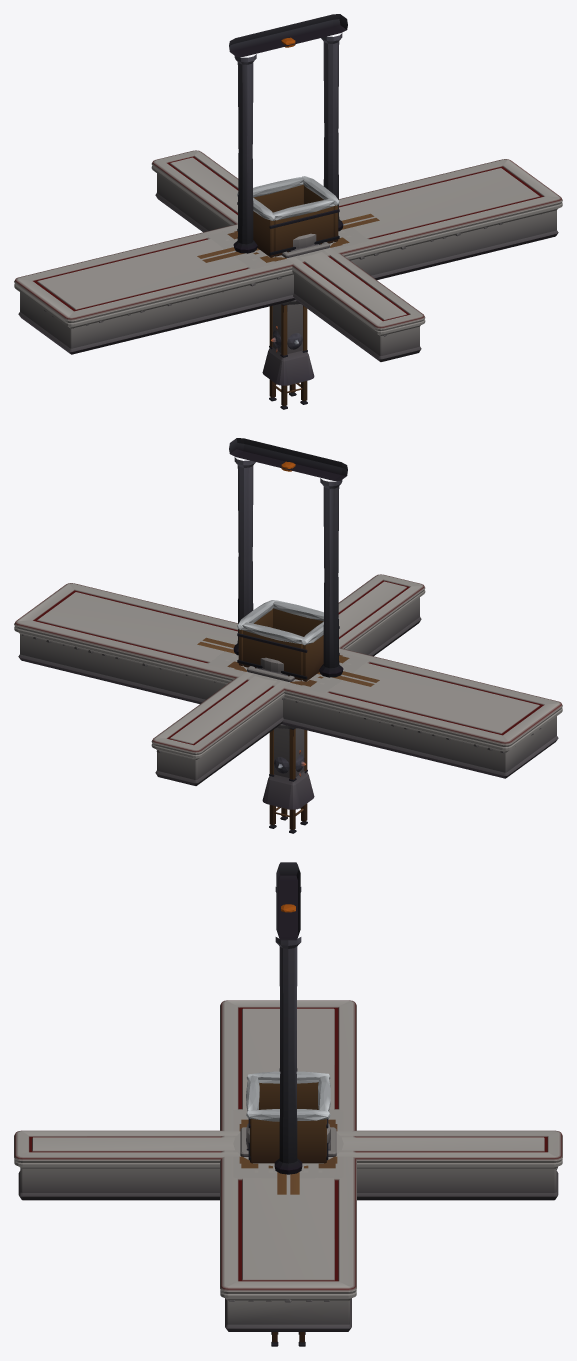
File: fortress-7-Cop983VW.glb
3 renders of one model, top to bottom at view 1: azimuth 30°, elevation 25°; view 2: azimuth 150°, elevation 25°; view 3: azimuth 270°, elevation 25°, orthographic. The views are drawn at different scales.
Parts seen in each view (by area): view 1: block_40x2x8#0, block_4x2x32_grate#0, pressFrame_5x6x2x7#0, hopper_4x3#0, support_1_square#0, truss_12#0, block_10x2x7#0, beam_14x1.5x1.5#0; view 2: block_40x2x8#0, block_4x2x32_grate#0, pressFrame_5x6x2x7#0, hopper_4x3#0, support_1_square#0, truss_12#0, block_10x2x7#0, beam_14x1.5x1.5#0; view 3: block_40x2x8#0, block_4x2x32_grate#0, pressFrame_5x6x2x7#0, hopper_4x3#0, block_10x2x7#0.
Boxes of the visible parts, x1=… form: block_40x2x8#0: x1=14, y1=159, x2=562, y2=354; block_4x2x32_grate#0: x1=151, y1=150, x2=425, y2=361; pressFrame_5x6x2x7#0: x1=229, y1=14, x2=347, y2=253; hopper_4x3#0: x1=237, y1=176, x2=339, y2=257; support_1_square#0: x1=262, y1=304, x2=314, y2=385; truss_12#0: x1=269, y1=304, x2=307, y2=409; block_10x2x7#0: x1=206, y1=228, x2=369, y2=268; beam_14x1.5x1.5#0: x1=197, y1=213, x2=379, y2=262; block_40x2x8#0: x1=14, y1=583, x2=562, y2=778; block_4x2x32_grate#0: x1=151, y1=574, x2=425, y2=785; pressFrame_5x6x2x7#0: x1=229, y1=438, x2=347, y2=677; hopper_4x3#0: x1=237, y1=600, x2=339, y2=681; support_1_square#0: x1=262, y1=728, x2=314, y2=809; truss_12#0: x1=269, y1=728, x2=307, y2=833; block_10x2x7#0: x1=207, y1=652, x2=370, y2=692; beam_14x1.5x1.5#0: x1=197, y1=637, x2=379, y2=686; block_40x2x8#0: x1=220, y1=1000, x2=356, y2=1331; block_4x2x32_grate#0: x1=14, y1=1130, x2=562, y2=1200; pressFrame_5x6x2x7#0: x1=274, y1=862, x2=302, y2=1174; hopper_4x3#0: x1=246, y1=1071, x2=330, y2=1163; block_10x2x7#0: x1=233, y1=1109, x2=343, y2=1180.
Bounding box in the file's own units: 40 × 28.68 × 32.
